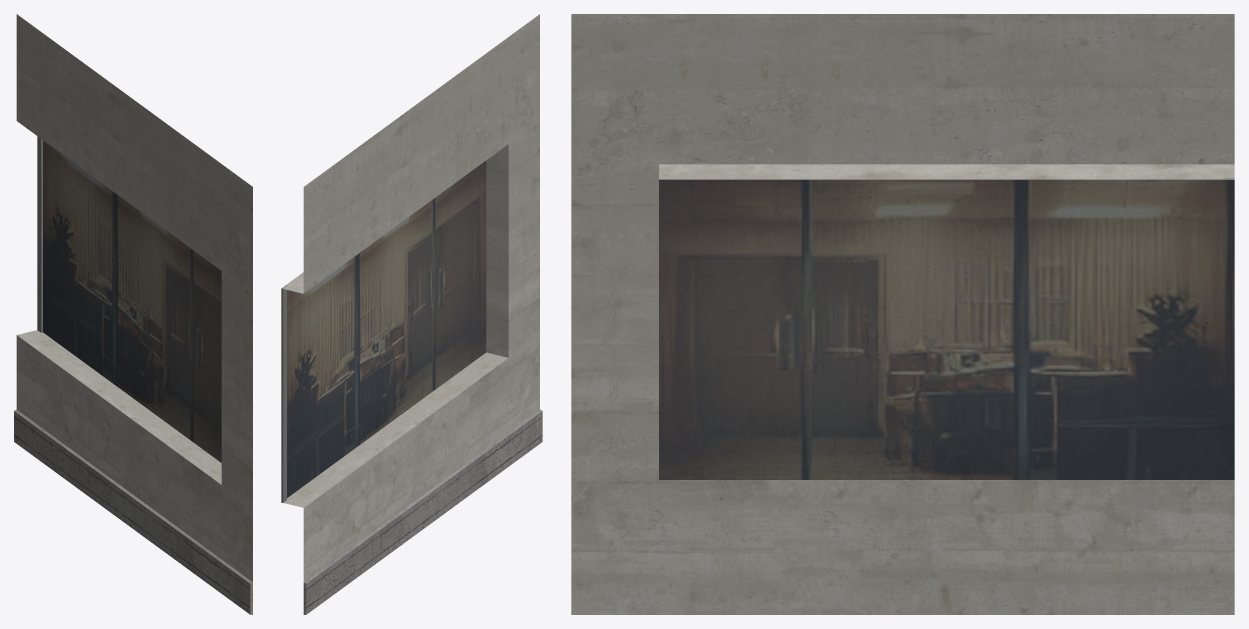
File: HH_Hospital_Windows_4m_05.fbx
The picture shows the model from 3 angles, left to right: view 1: azimuth 30°, elevation 25°; view 2: azimuth 150°, elevation 25°; view 3: azimuth 270°, elevation 25°; orthographic projection. The views are drawn at different scales.
Visible parts, largest first — view 1: HH_Hospital_Windows_4m_05; view 2: HH_Hospital_Windows_4m_05; view 3: HH_Hospital_Windows_4m_05.
Part boxes in pixels (left/top/right/bottom): HH_Hospital_Windows_4m_05: left=14, top=14, right=252, bottom=614; HH_Hospital_Windows_4m_05: left=281, top=14, right=542, bottom=614; HH_Hospital_Windows_4m_05: left=571, top=14, right=1234, bottom=614.
Size of the model in its own units: 24.6 by 400 by 400.
